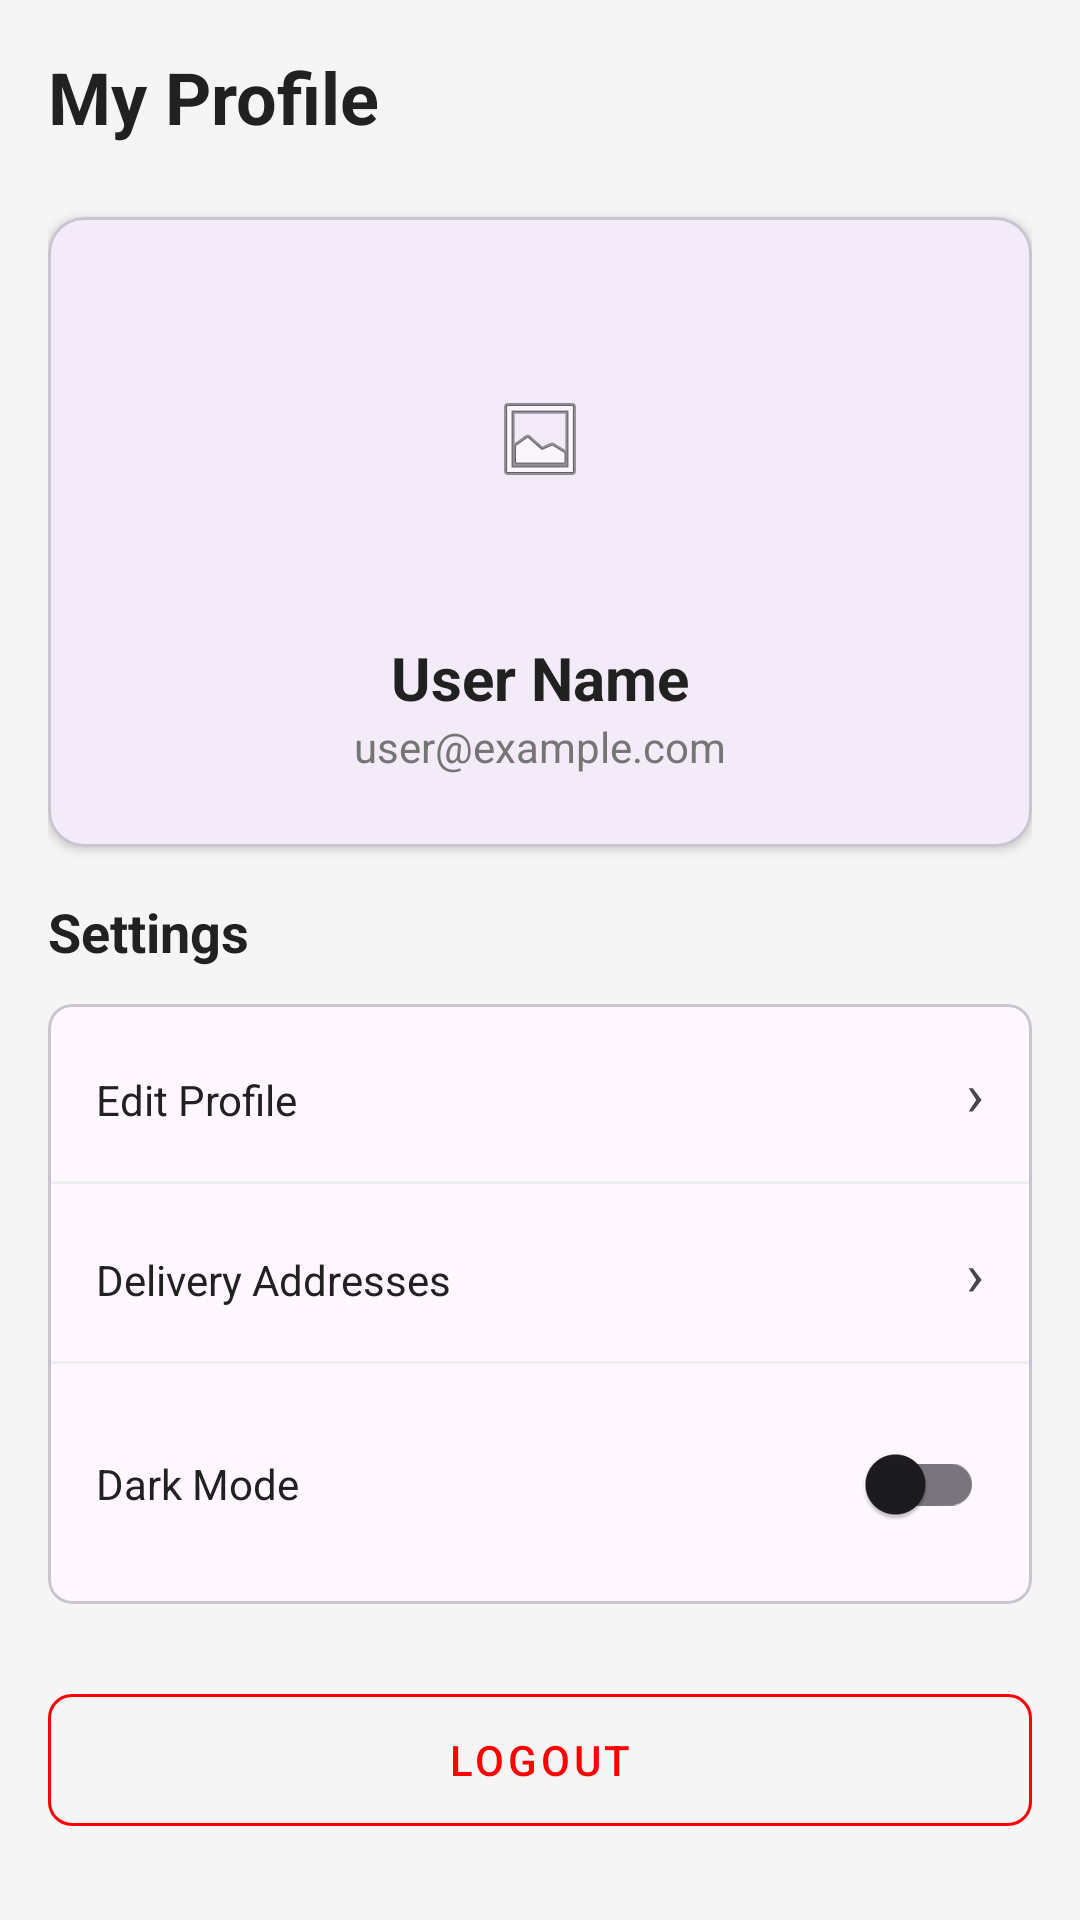

Icon click points for this 1080px x 1920px phone screenshot, format [x,y]:
gallery: [540,439]
